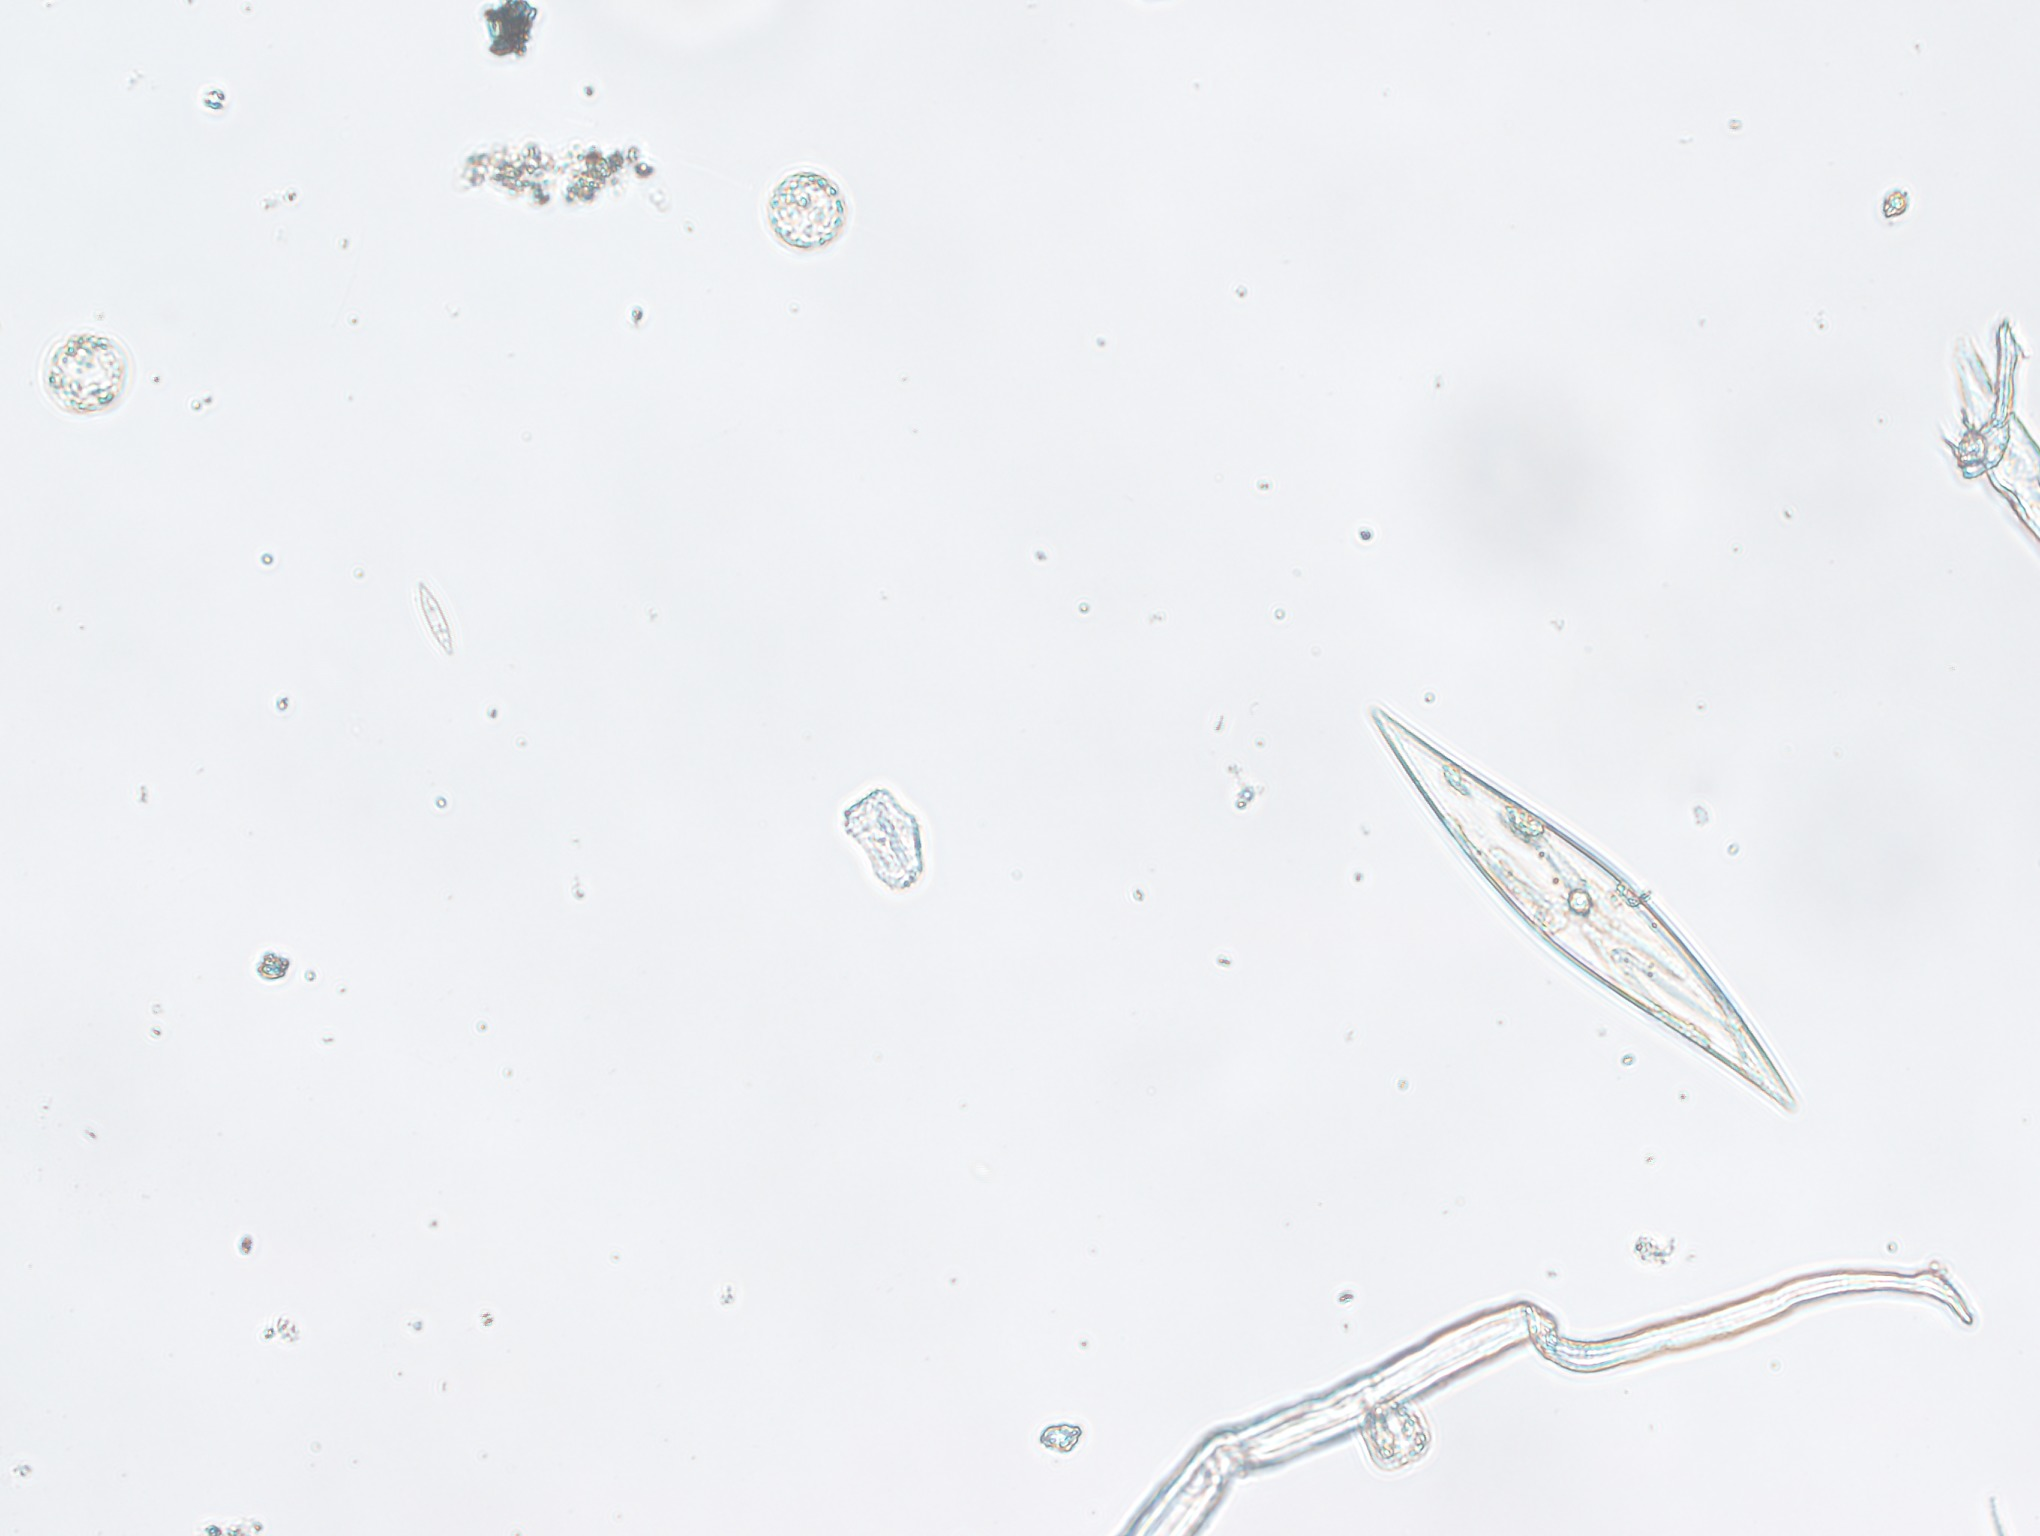pleurosigma pelagicum: (1366, 700, 1809, 1113)
